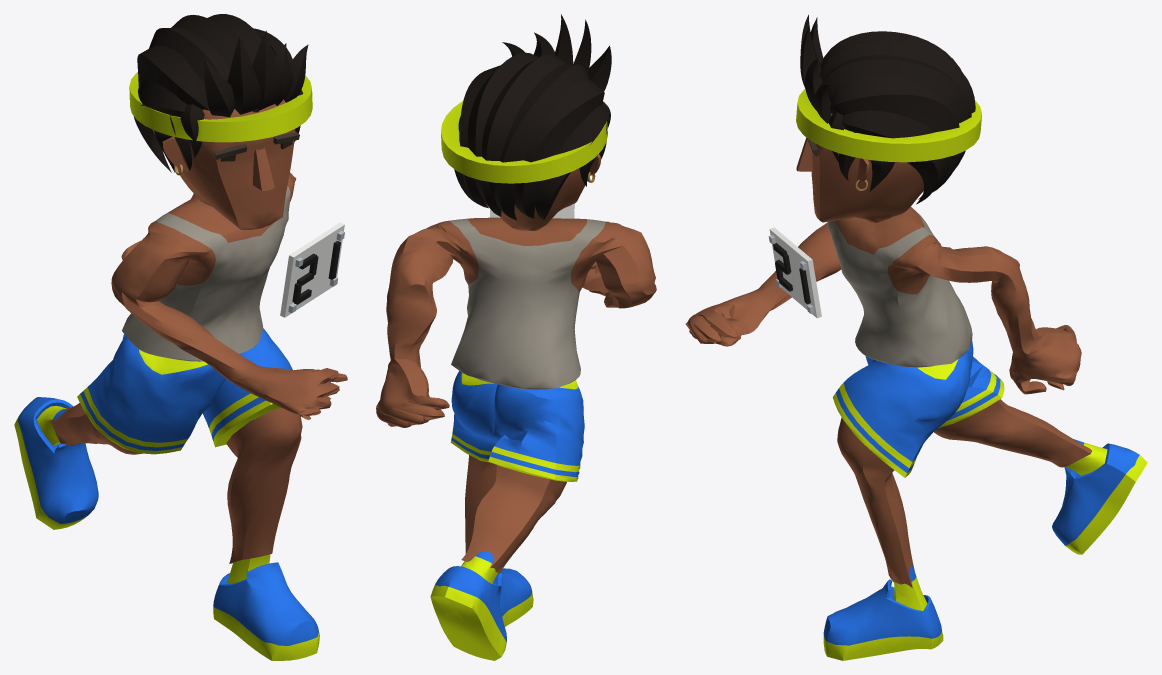
File: av-corredor-rua.glb
3 renders of one model, left to right at view 1: azimuth 30°, elevation 25°; view 2: azimuth 150°, elevation 25°; view 3: azimuth 270°, elevation 25°, orthographic. The views are drawn at different scales.
Visible parts, largest first — view 1: Ad_faixa_cabeca_0_0; view 2: Ad_faixa_cabeca_0_0; view 3: Ad_faixa_cabeca_0_0.
Boxes of the visible parts, box(x1,y1,x2,y2) form: Ad_faixa_cabeca_0_0: box(14, 14, 347, 660); Ad_faixa_cabeca_0_0: box(376, 14, 656, 660); Ad_faixa_cabeca_0_0: box(685, 14, 1147, 660).
Size of the model in its own units: 0.5216 by 1.47 by 1.02.
1 material, 1 textured.
